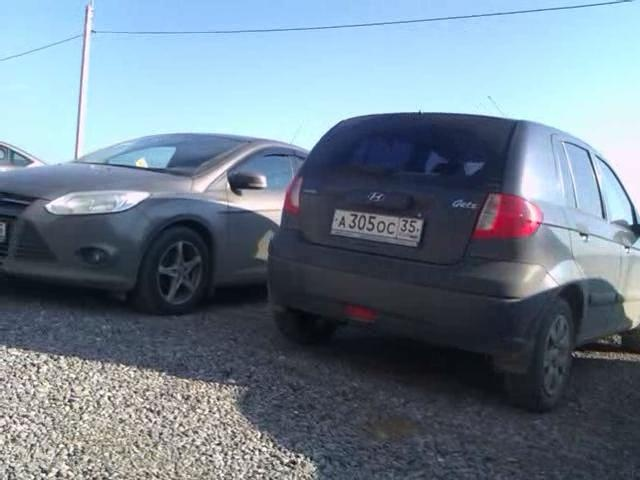car license plate: (331, 206, 424, 252)
